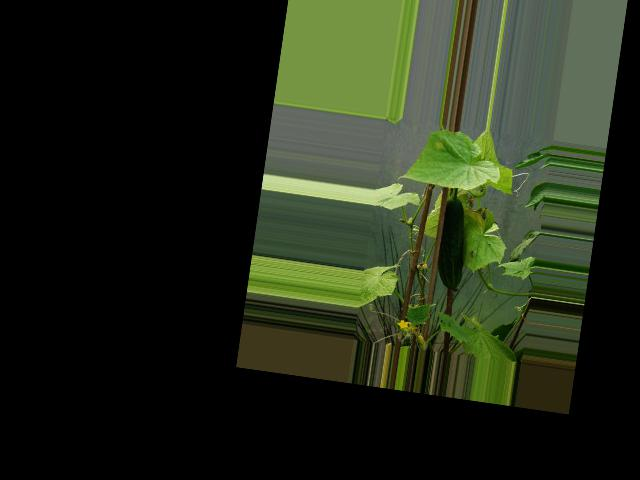cucumber: (433, 197, 472, 291)
